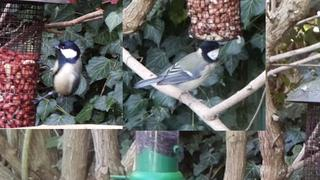great tit: (133, 40, 226, 108), (31, 40, 83, 105)
